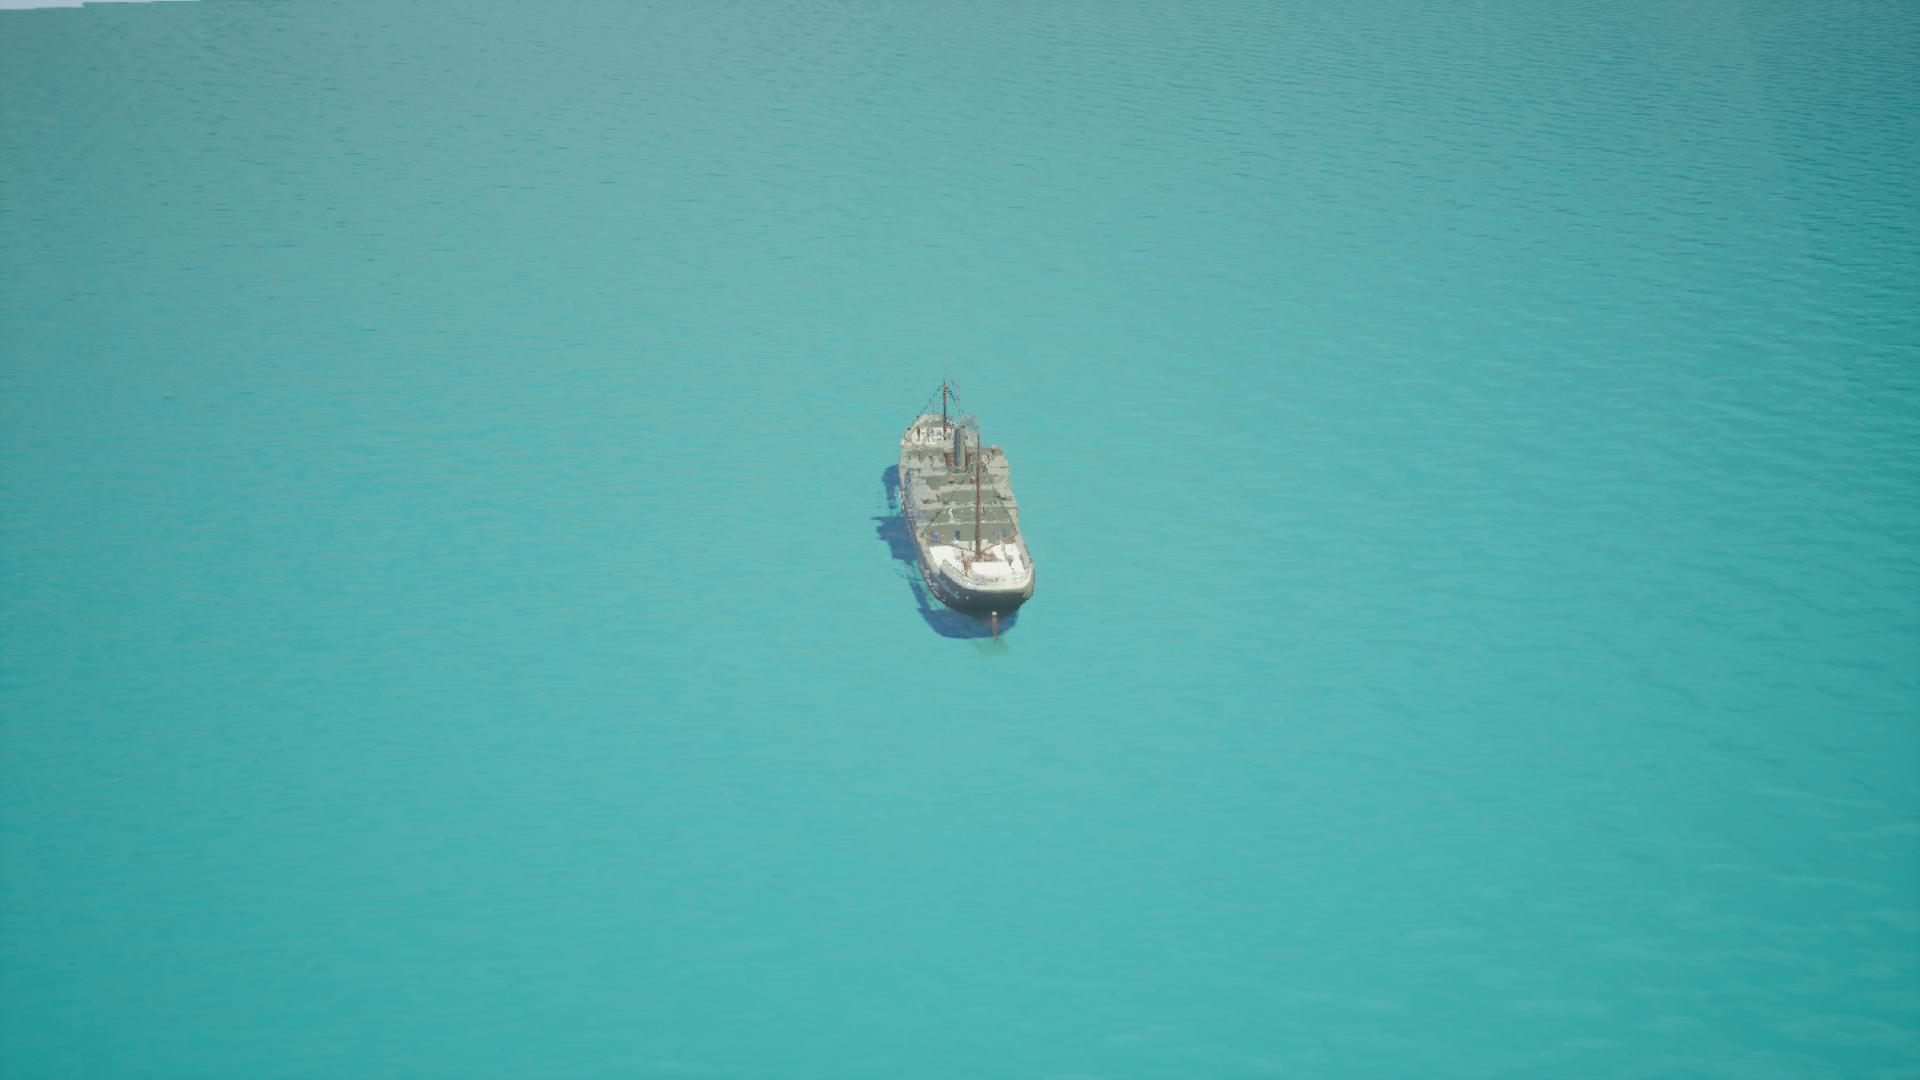Fishing Boat: (878, 377, 1040, 646)
